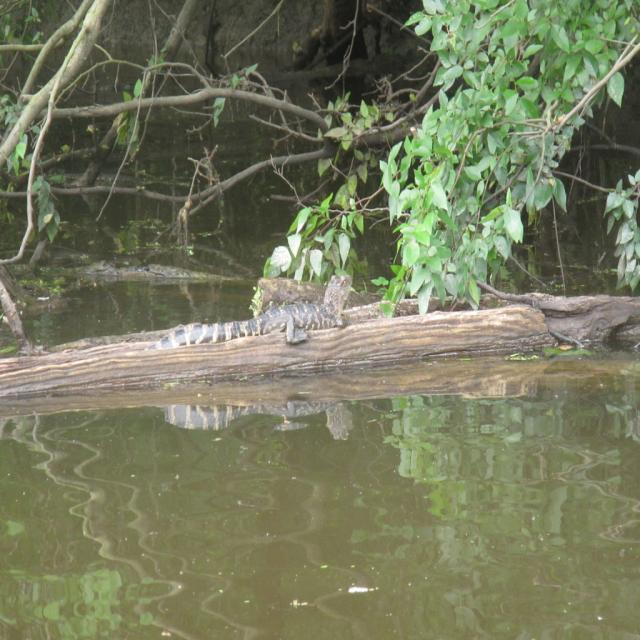crocodile: (124, 265, 381, 377)
